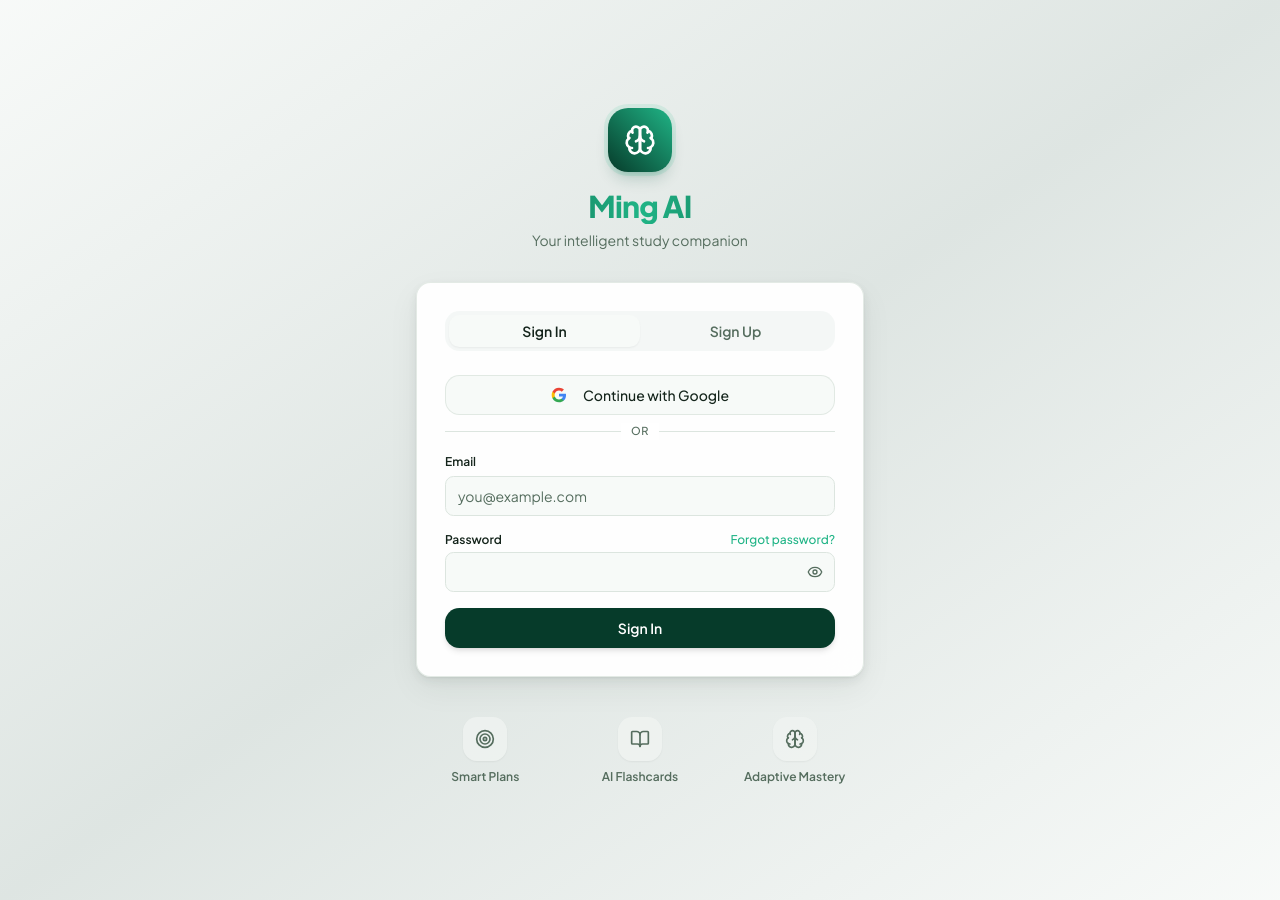
it: Password Reset & Forgot Password Flow › allows returning back to Sign In from forgot password view
The width and height of the screenshot is (1280, 900).
Open Step 1
Click the button "Forgot password?" at (783, 540), box [730,532,835,548]
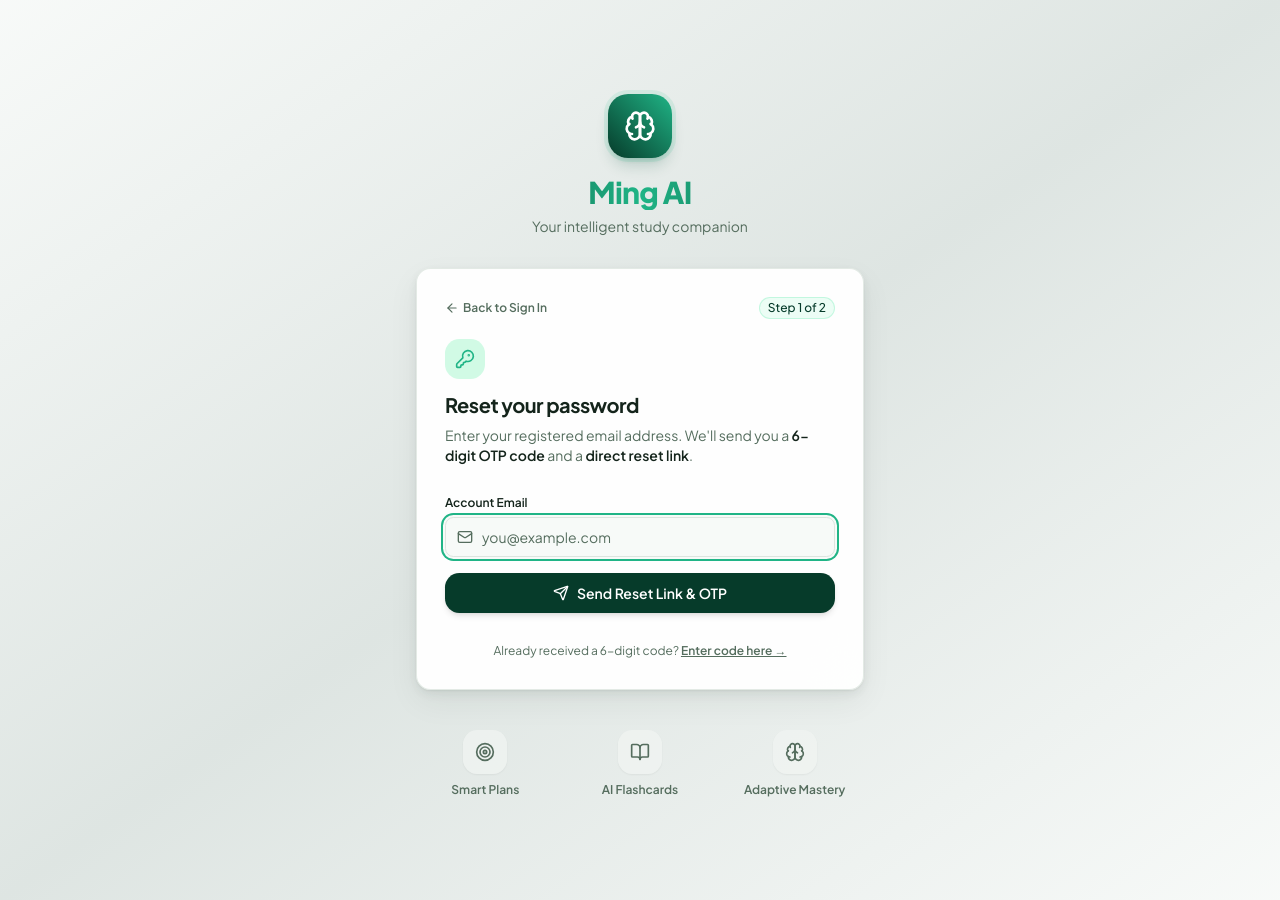
Expected: the heading "Reset your password" is shown, [445,392,639,417]
Click Back to Sign In
Click the button "Back to Sign In" at (496, 308), box [445,300,547,316]
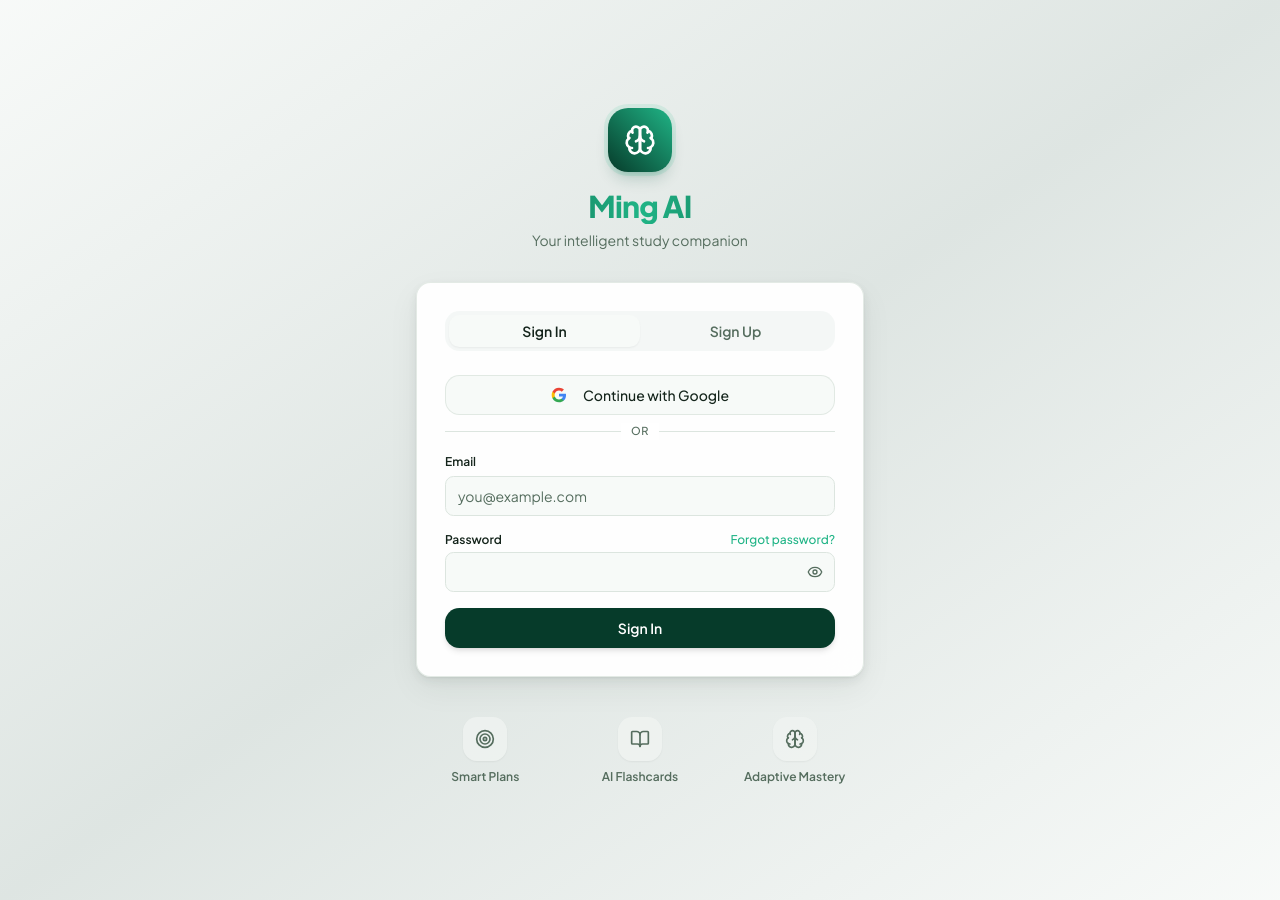
Expected: the button "Sign In" is shown, [445,608,835,648]
Expected: the button "Forgot password?" is shown, [730,532,835,548]
